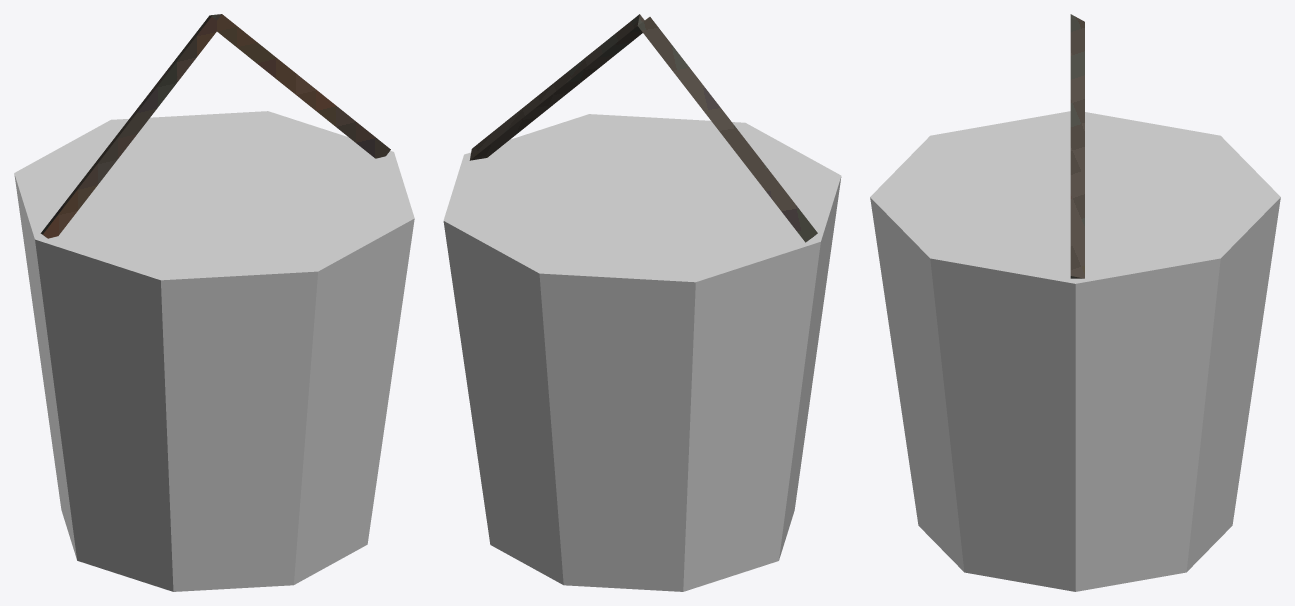
Rendered from cubo.obj.
3 renders of one model, left to right at view 1: azimuth 30°, elevation 25°; view 2: azimuth 150°, elevation 25°; view 3: azimuth 270°, elevation 25°, orthographic.
Visible parts, largest first — view 1: cubo; view 2: cubo; view 3: cubo.
Part boxes in pixels (x1,y1,x2,y2): cubo: [14, 14, 414, 591]; cubo: [443, 14, 841, 591]; cubo: [870, 14, 1280, 591].
Bounding box in the file's own units: 0.34 × 0.4649 × 0.34.
2 materials, 1 textured.
